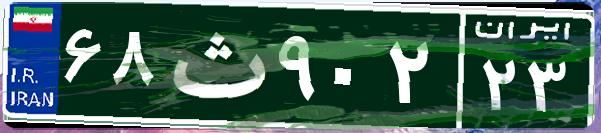0: (330, 28, 385, 110)
2: (385, 28, 445, 110), (475, 38, 525, 113)
3: (525, 38, 570, 115)
6: (57, 26, 110, 107)
8: (110, 28, 158, 105)
9: (273, 28, 330, 110)
ث: (158, 15, 273, 115)
